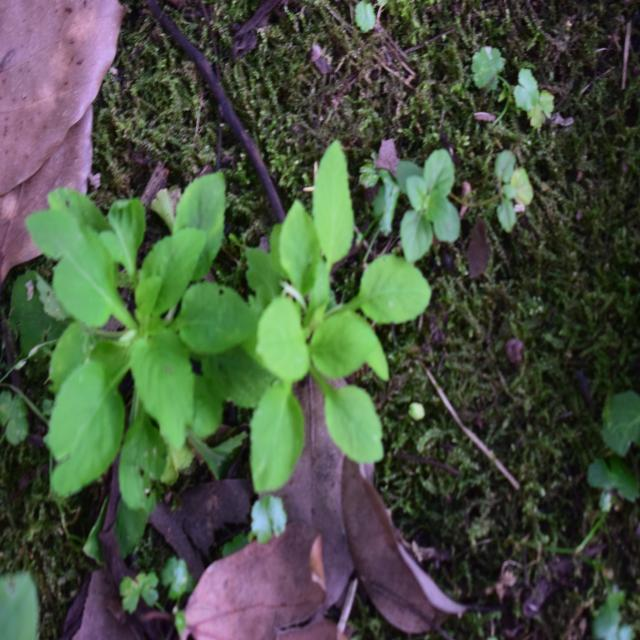Viola: (14, 157, 250, 489), (242, 204, 411, 466)
